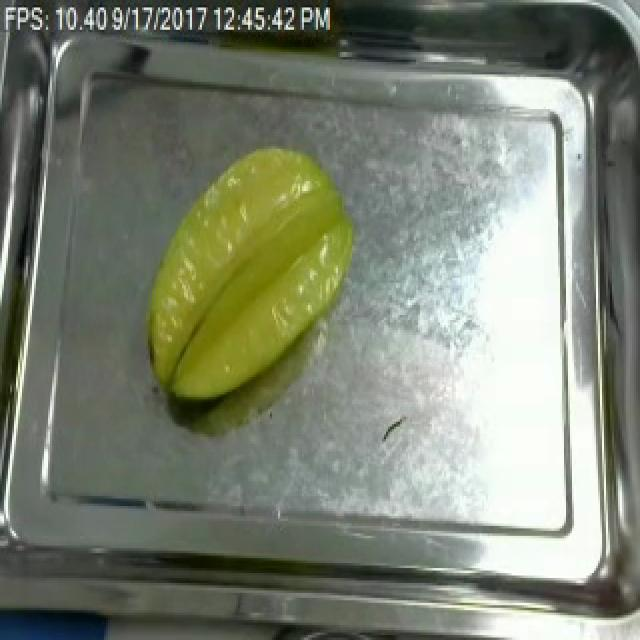fruit: (128, 132, 366, 424)
